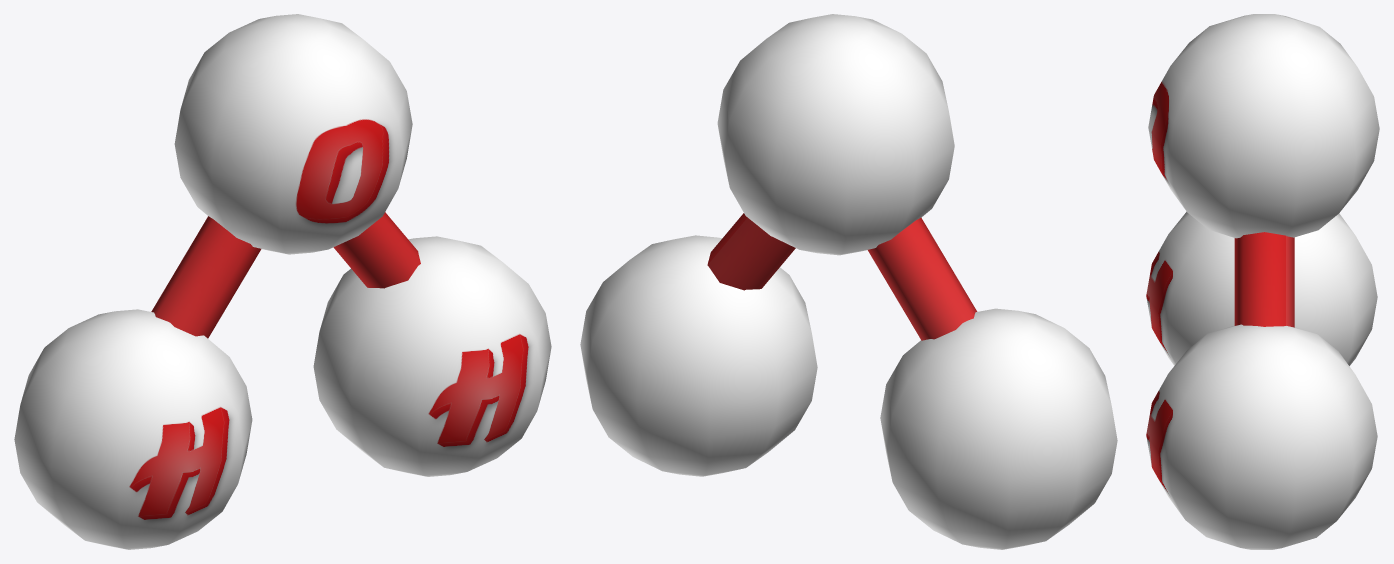
The model's file is Hydrogen compound.fbx.
3 renders of one model, left to right at view 1: azimuth 30°, elevation 25°; view 2: azimuth 150°, elevation 25°; view 3: azimuth 270°, elevation 25°, orthographic. The views are drawn at different scales.
Visible parts, largest first — view 1: Hydrogen_compound; view 2: Hydrogen_compound; view 3: Hydrogen_compound.
Part boxes in pixels (x1=…): Hydrogen_compound: x1=14, y1=14, x2=551, y2=549; Hydrogen_compound: x1=580, y1=14, x2=1117, y2=549; Hydrogen_compound: x1=1146, y1=14, x2=1379, y2=549.
Bounding box in the file's own units: 22.84 × 20.75 × 9.69.
Materials: 2 (2 with a texture image).
